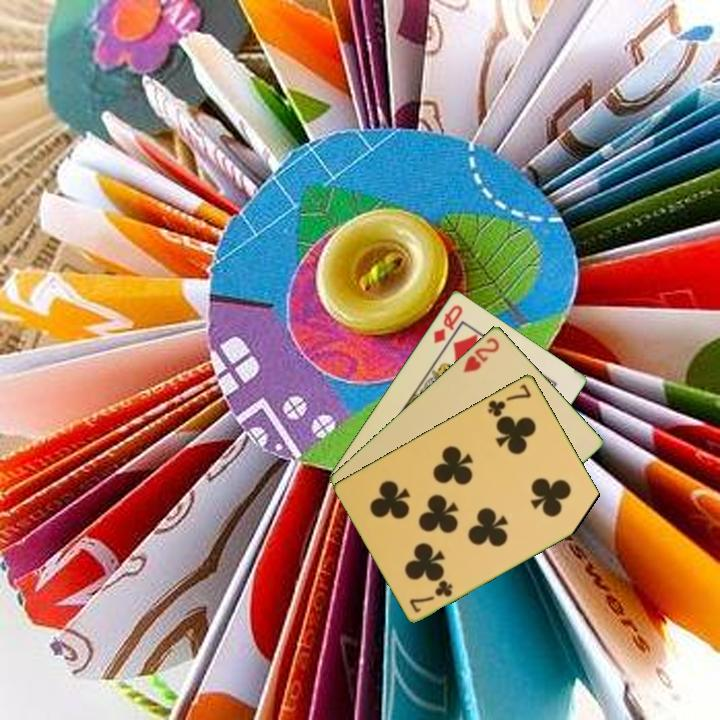2h: (460, 334, 503, 375)
7c: (484, 380, 534, 420), (406, 576, 456, 615)
Qd: (430, 301, 466, 346)
